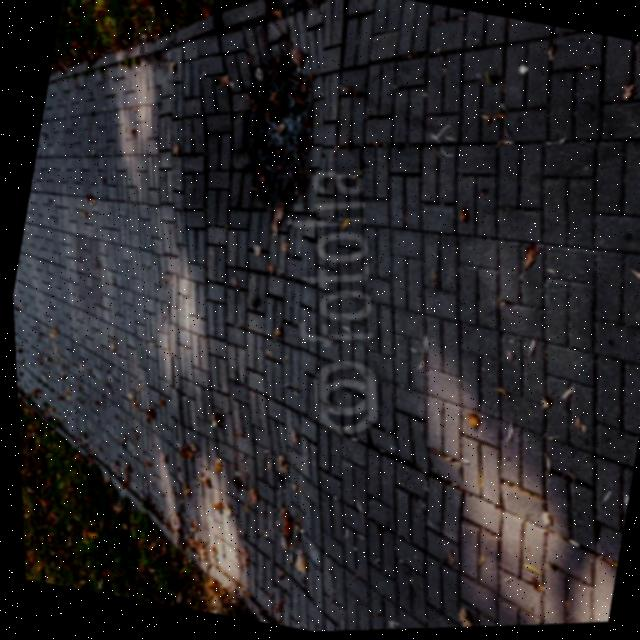Pothole: (130, 0, 406, 284), (444, 8, 640, 152)
